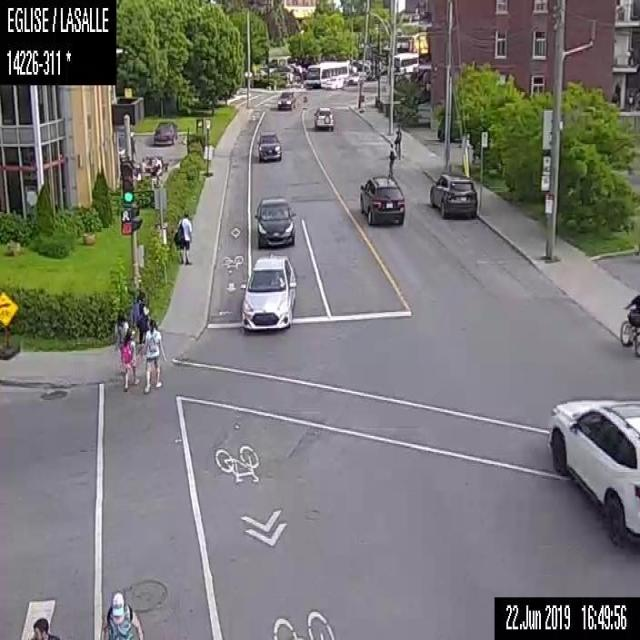bus: (302, 58, 350, 86), (388, 49, 418, 75)
cyclist: (618, 292, 639, 355)
pedestrian: (101, 592, 143, 639), (142, 319, 167, 392), (119, 327, 137, 394), (131, 290, 150, 345), (174, 210, 192, 262), (114, 308, 127, 356), (30, 614, 56, 638), (392, 121, 404, 160), (386, 143, 396, 175), (149, 154, 161, 177), (137, 155, 146, 175)
vehicle: (549, 397, 639, 540), (238, 250, 296, 329), (358, 172, 405, 223), (428, 168, 476, 216), (253, 197, 296, 246), (256, 129, 282, 160), (152, 119, 175, 145), (314, 104, 334, 131), (276, 88, 298, 108), (348, 70, 365, 84)
